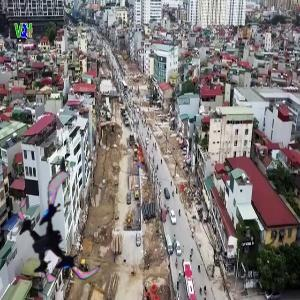drone: (4, 185, 113, 294)
